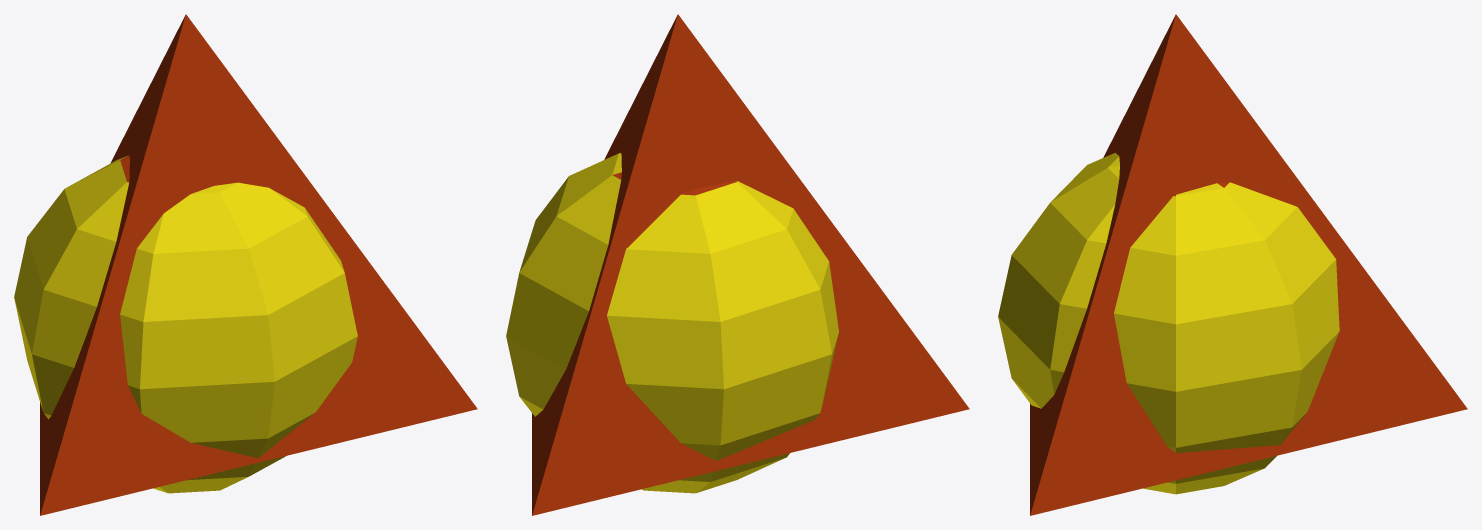
The picture shows the model from 3 angles, left to right: view 1: azimuth 30°, elevation 25°; view 2: azimuth 150°, elevation 25°; view 3: azimuth 270°, elevation 25°; orthographic projection.
Parts seen in each view (by area): view 1: Cone; view 2: Cone; view 3: Cone.
Boxes of the visible parts, x1,y1,x2,y2 form: Cone: (14,14,477,515); Cone: (506,14,969,515); Cone: (998,14,1467,515).
Bounding box in the file's own units: 173 × 174 × 161.
